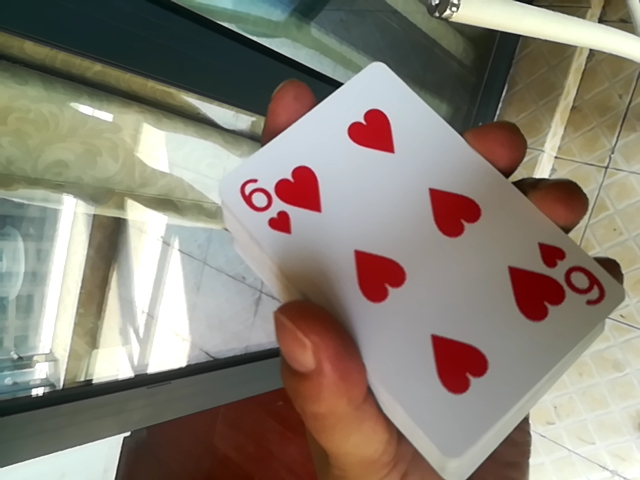hx 6: (182, 63, 627, 456)
